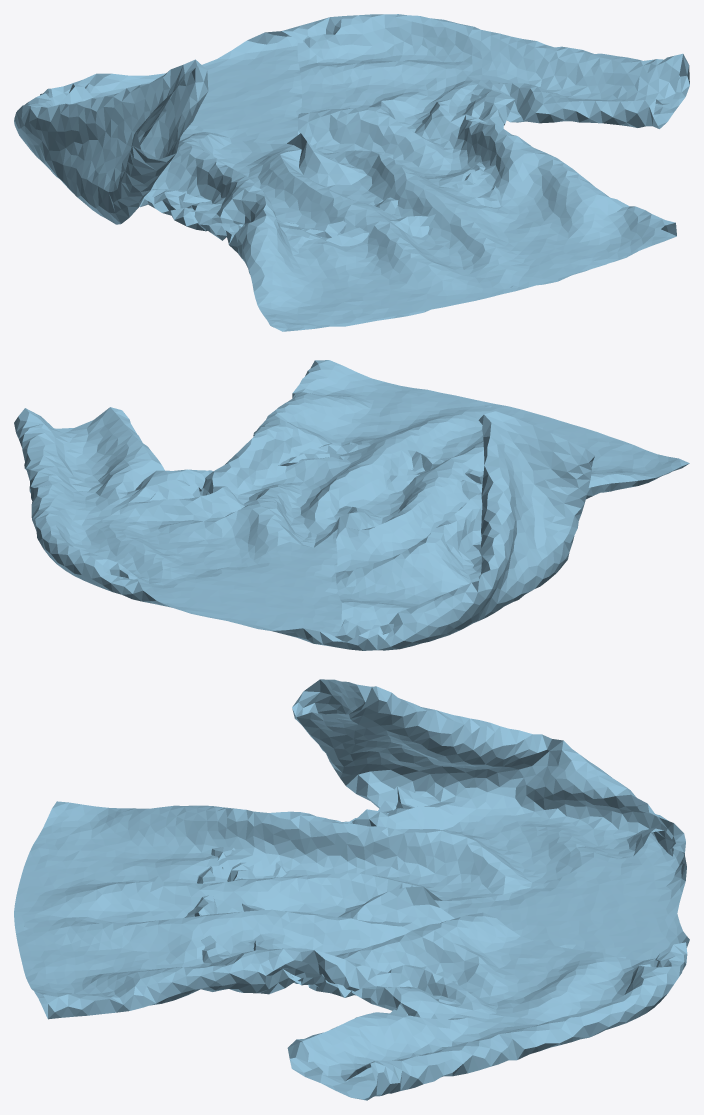
File: frame_12.glb
The picture shows the model from 3 angles, top to bottom: view 1: azimuth 30°, elevation 25°; view 2: azimuth 150°, elevation 25°; view 3: azimuth 270°, elevation 25°; orthographic projection. The views are drawn at different scales.
Parts seen in each view (by area): view 1: frame_12.obj; view 2: frame_12.obj; view 3: frame_12.obj.
Boxes of the visible parts, left/top/right/bottom form: frame_12.obj: left=14, top=14, right=689, bottom=331; frame_12.obj: left=14, top=360, right=689, bottom=650; frame_12.obj: left=14, top=679, right=689, bottom=1100.
Size of the model in its own units: 1.59 by 0.3973 by 1.48.
